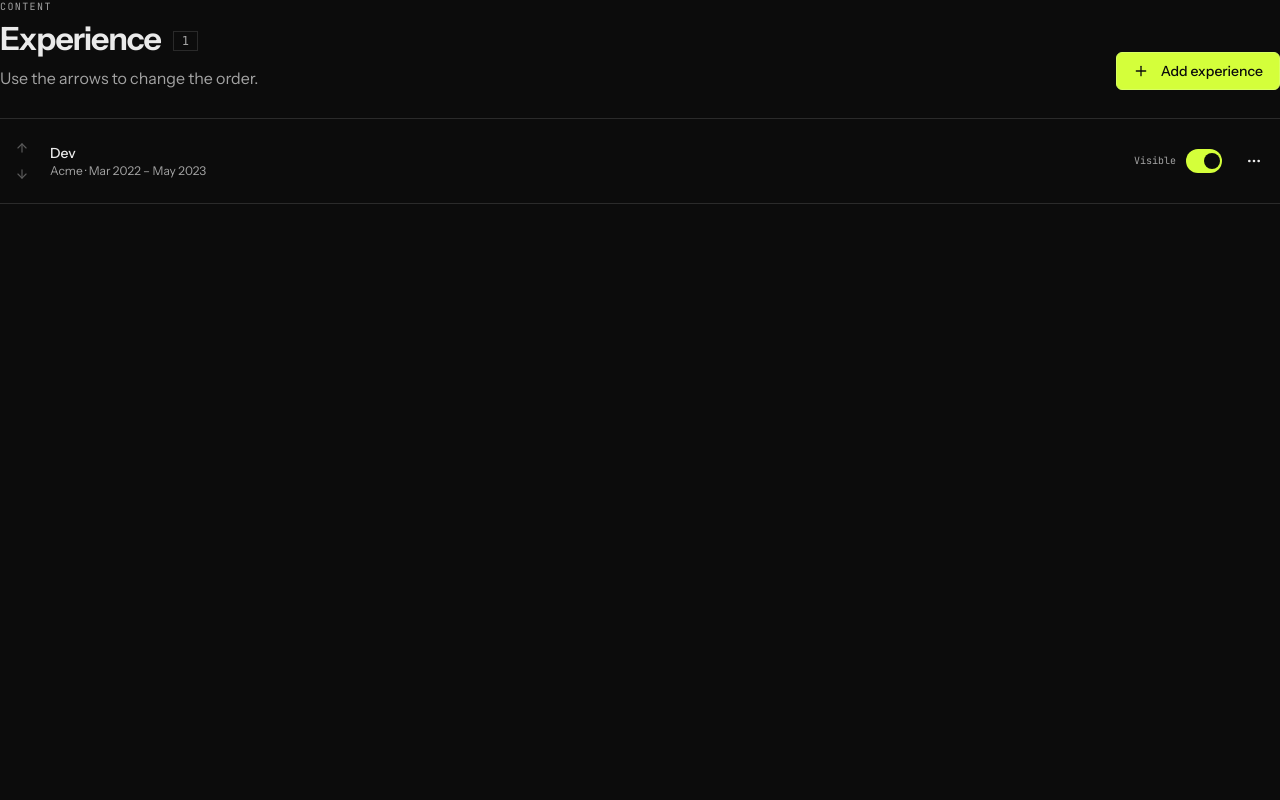
experience form › turning on current clears endDate and disables the End selects; off re-enables
Click the text "Dev": (63,153) 50,143 -> 76,163
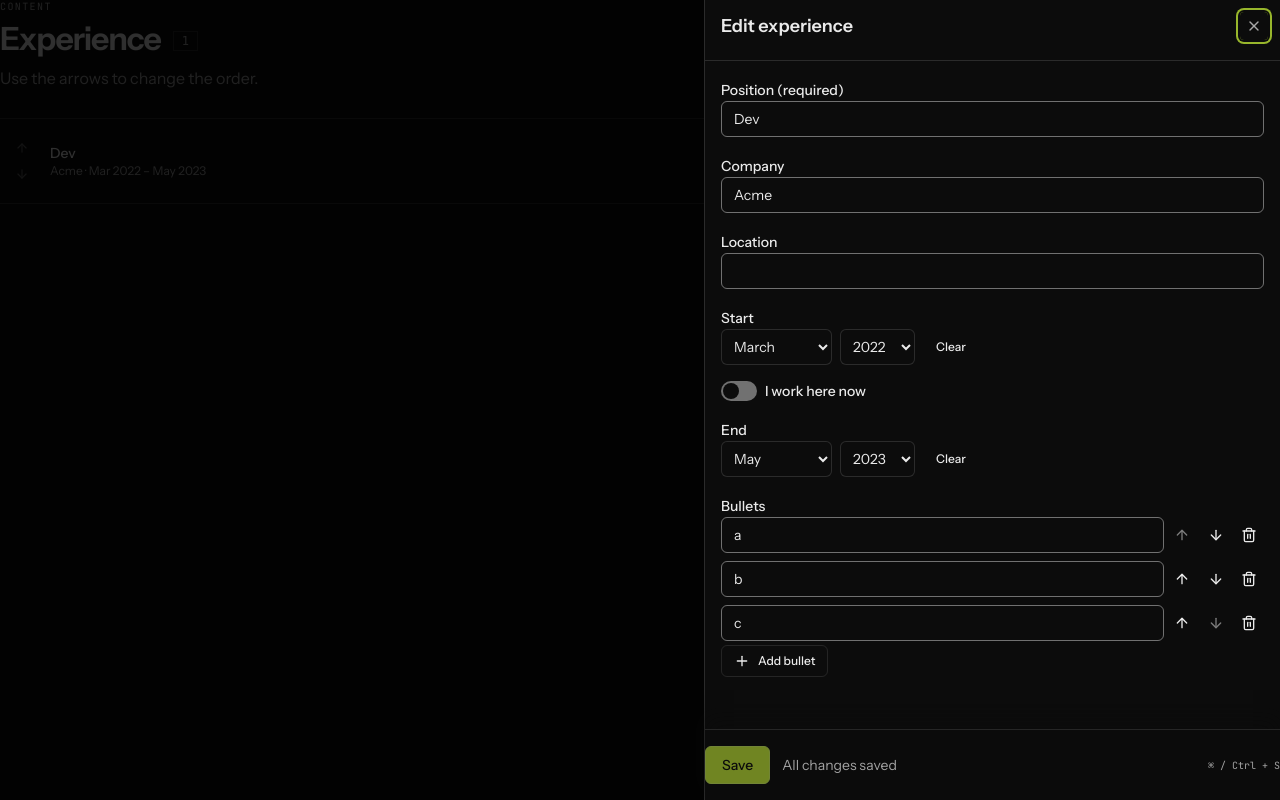
Check: the dropdown named "End year" shows "2023", box 840,441 -> 915,477
Click the switch named "I work here now": (739,391) 721,381 -> 757,401
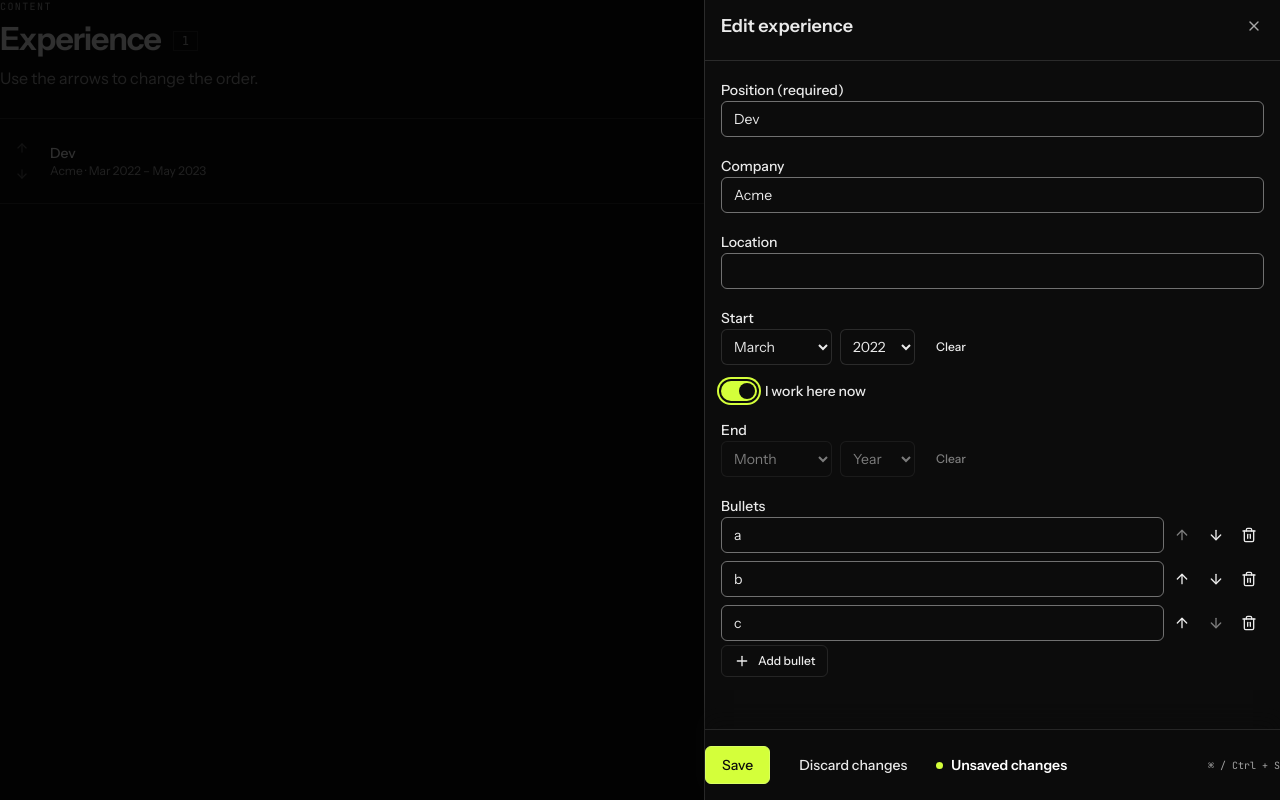
Check: the dropdown named "End month" is disabled, box 721,441 -> 832,477
Check: the dropdown named "End year" is disabled, box 840,441 -> 915,477
Check: the dropdown named "End month" shows "Month", box 721,441 -> 832,477
Click the switch named "I work here now": (739,391) 721,381 -> 757,401
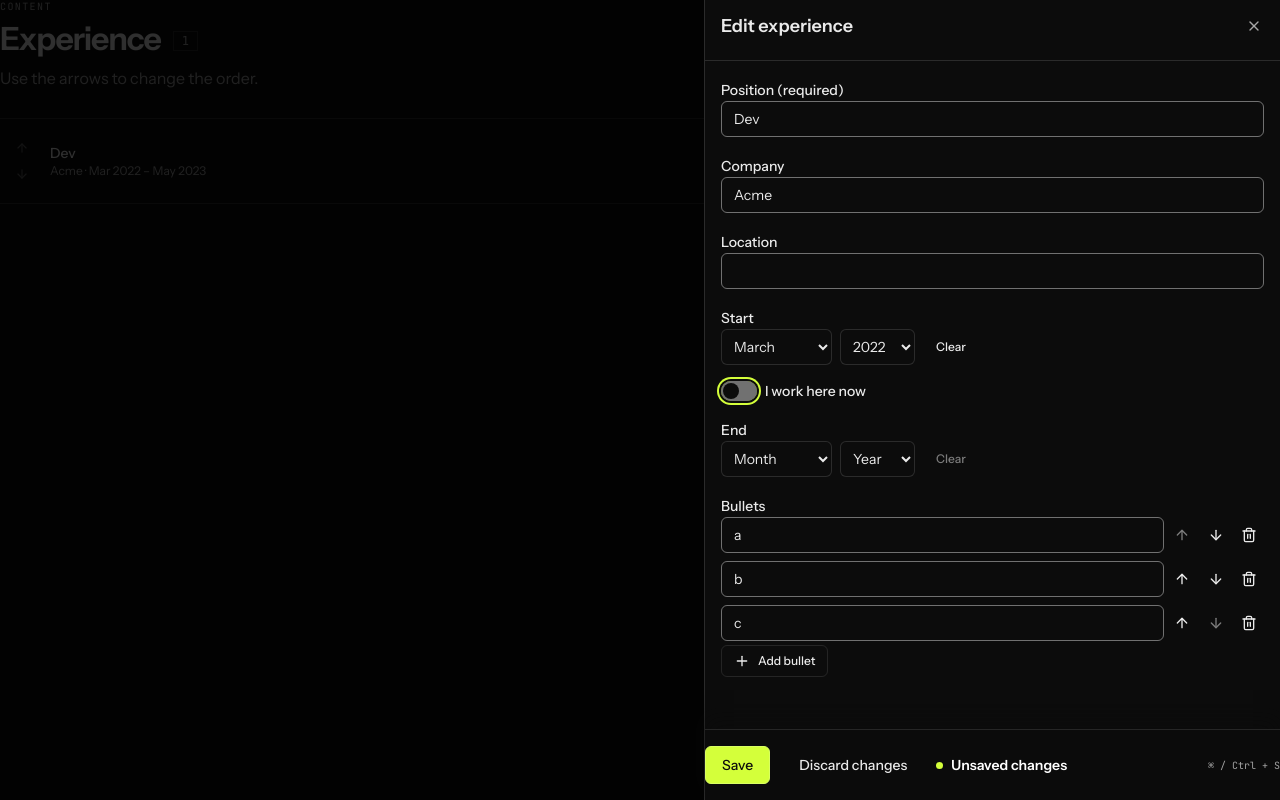
Check: the dropdown named "End year" shows "Year", box 840,441 -> 915,477
Check: the dropdown named "End month" is enabled, box 721,441 -> 832,477
Check: the dropdown named "End year" is enabled, box 840,441 -> 915,477
